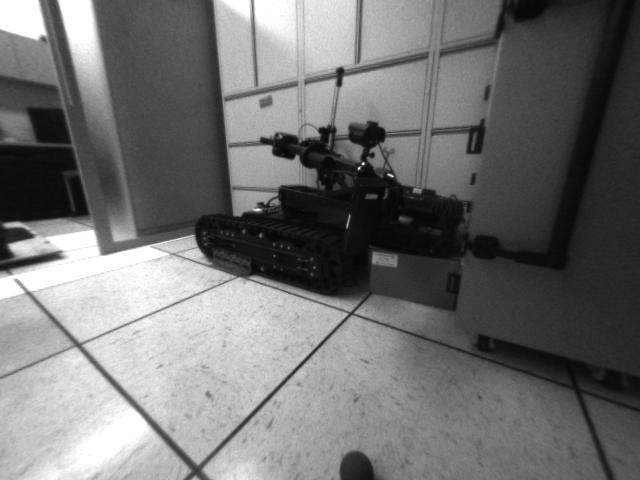dogtoy: (333, 444, 381, 480)
